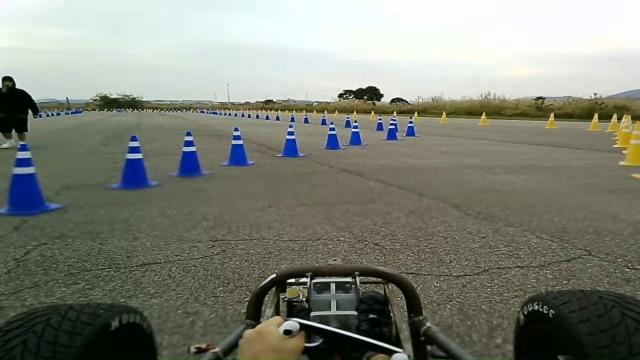blue cone: (0, 142, 64, 216), (106, 134, 160, 190), (172, 130, 208, 178), (220, 126, 256, 166), (275, 124, 305, 157), (318, 121, 346, 150), (344, 120, 367, 146), (380, 117, 402, 140), (404, 116, 419, 137)
yellow cone: (618, 113, 640, 185)
